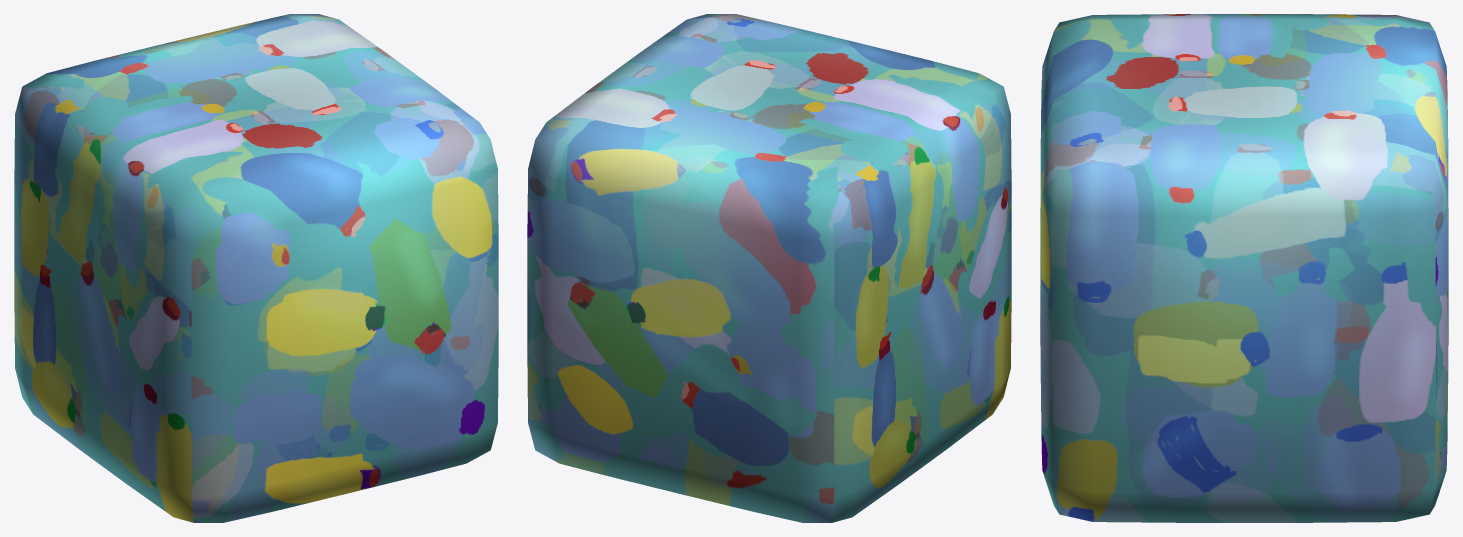
The model's file is cubo.fbx.
The picture shows the model from 3 angles, left to right: view 1: azimuth 30°, elevation 25°; view 2: azimuth 150°, elevation 25°; view 3: azimuth 270°, elevation 25°; orthographic projection. The views are drawn at different scales.
Visible parts, largest first — view 1: cuboBasura; view 2: cuboBasura; view 3: cuboBasura.
Boxes of the visible parts, box(x1,y1,x2,y2) form: cuboBasura: box(14, 14, 498, 522); cuboBasura: box(527, 14, 1011, 522); cuboBasura: box(1040, 14, 1448, 522).
Size of the model in its own units: 39.22 by 39.25 by 39.22.
